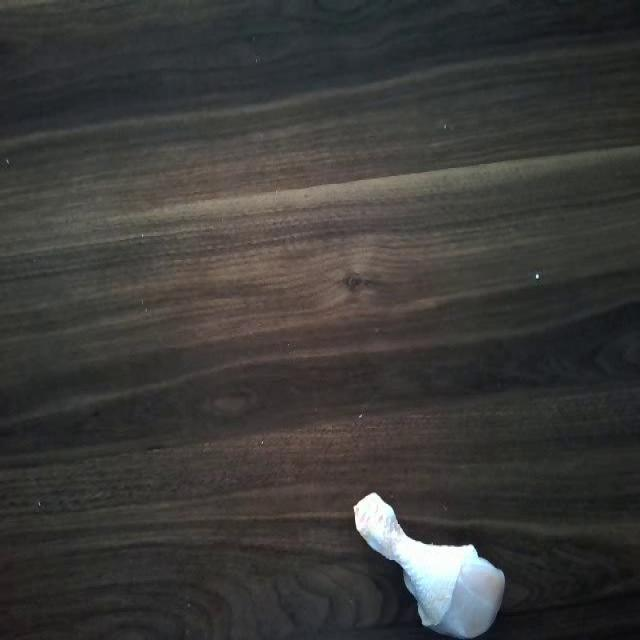leg: (350, 494, 508, 636)
